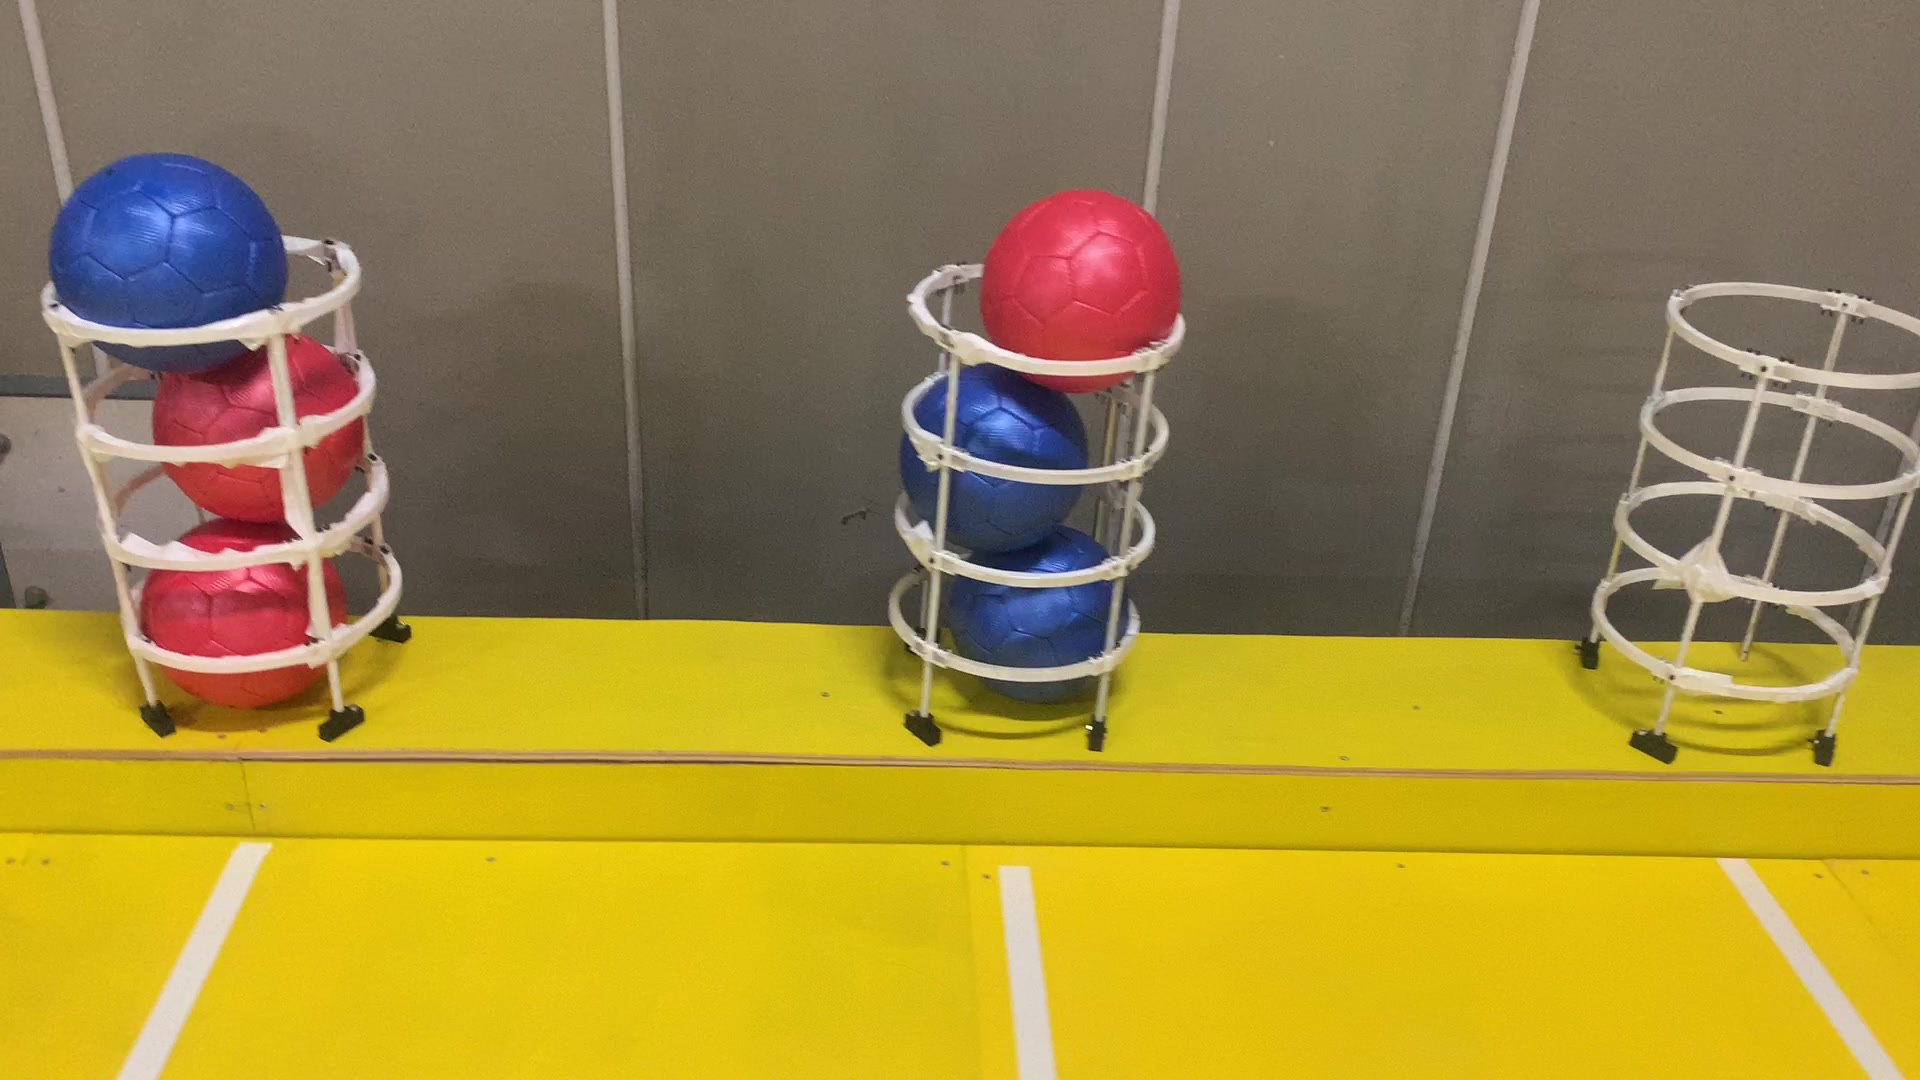blue: (47, 157, 295, 380), (926, 524, 1129, 712), (898, 364, 1088, 553)
red: (148, 316, 377, 542), (978, 185, 1195, 393), (135, 521, 360, 719)
